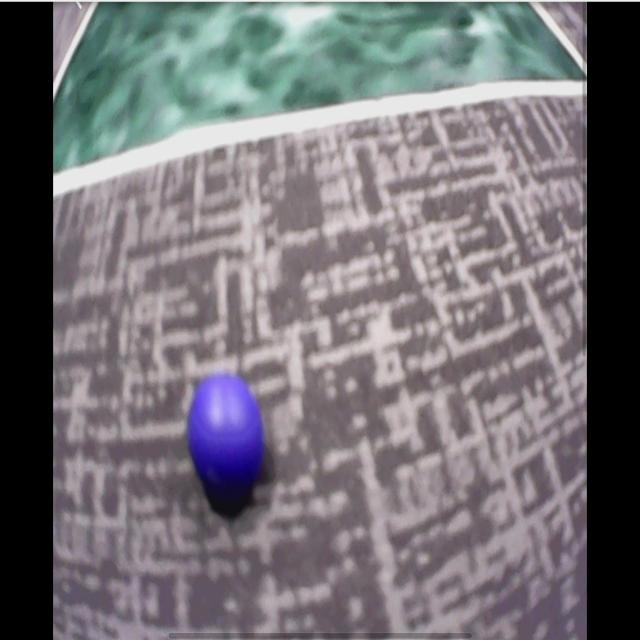ball: (189, 370, 262, 490)
